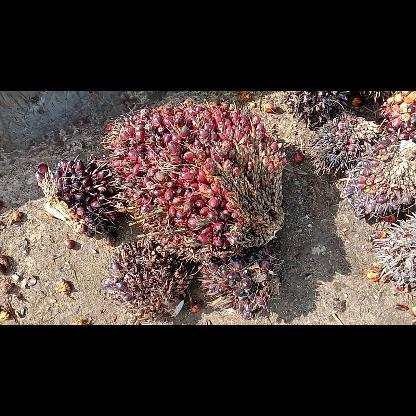TBS abnormal: (36, 156, 122, 238), (107, 241, 192, 319), (197, 252, 282, 318)
TBS masak: (105, 98, 285, 252)
